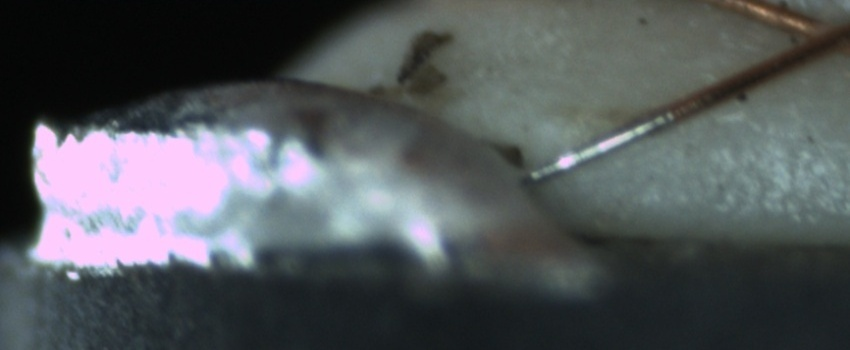CL: (769, 3, 848, 67)
TS: (522, 108, 672, 180)
